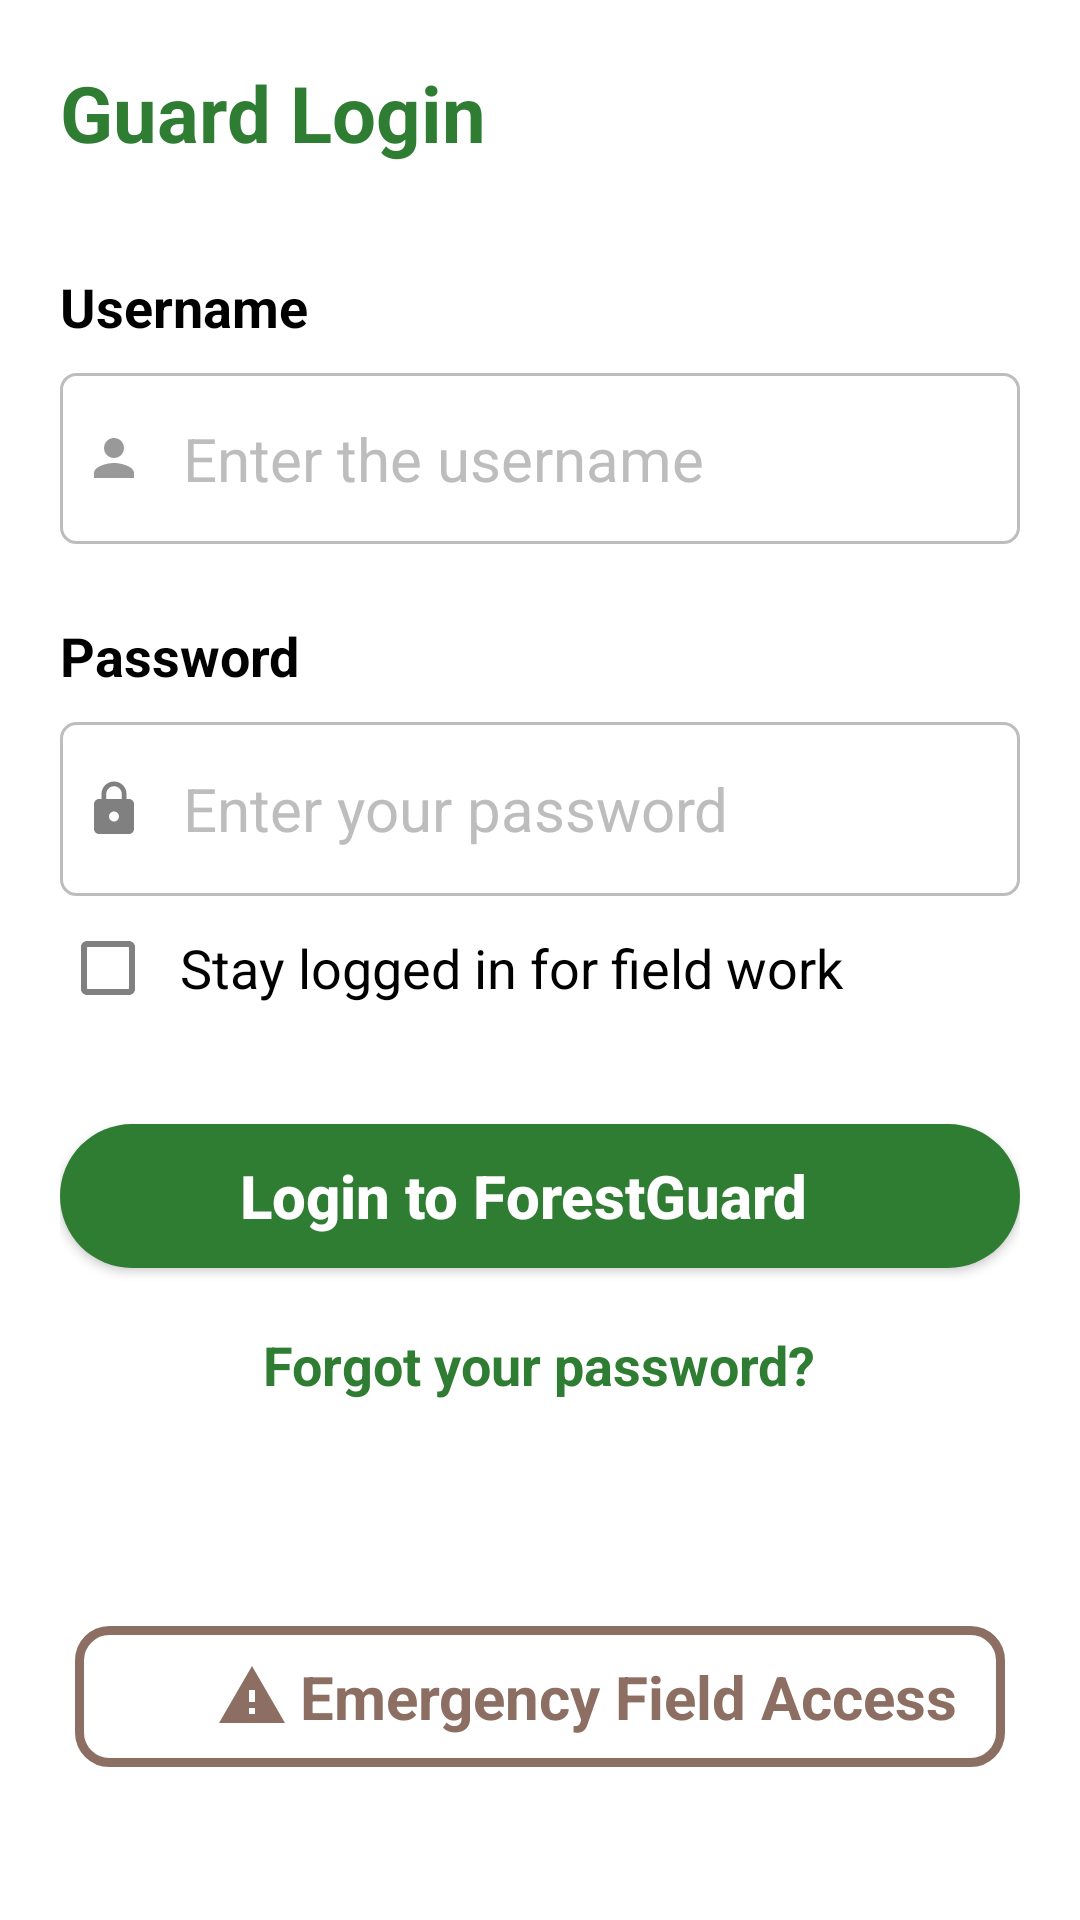

Where icons sit on this 1080 x 1920 app screen, as bbox=[x1, y1, x2, y2]:
lock: bbox=[94, 781, 134, 834]
person: bbox=[94, 438, 134, 478]
warning: bbox=[219, 1666, 285, 1723]
